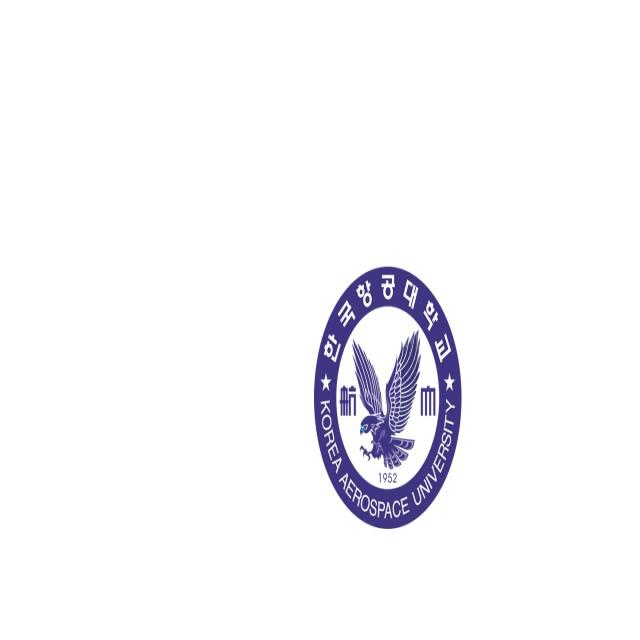KAU_Marker: (311, 255, 464, 532)
